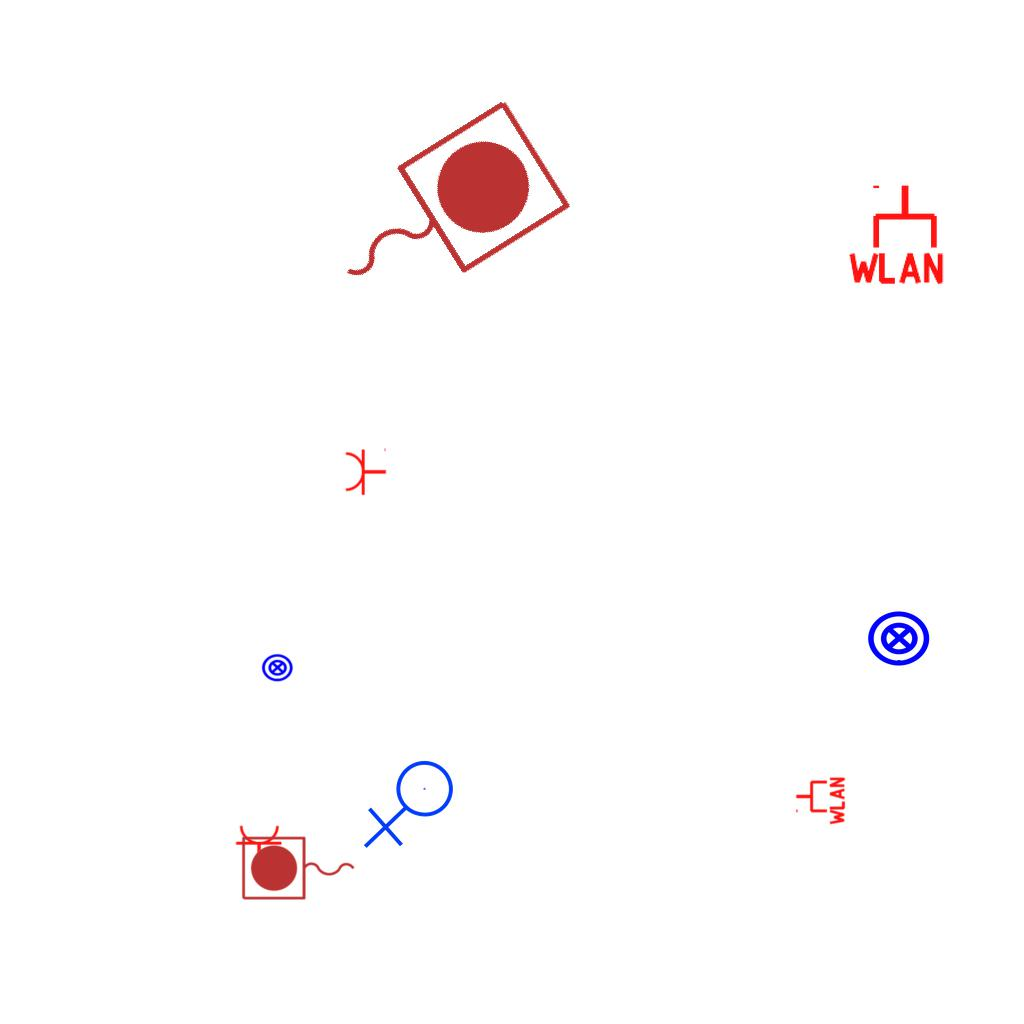Elektroanschluss_allgemein_230V_Geraeteanschlussdose_230V: (363, 759, 462, 853)
Schukosteckdose_einfach: (235, 824, 285, 867), (344, 446, 387, 496)
Taster_beleuchtet: (866, 605, 932, 671), (261, 651, 294, 684)
WLAN: (844, 181, 948, 286), (794, 775, 846, 827)
Zugtaster: (298, 86, 582, 338), (238, 833, 360, 905)
